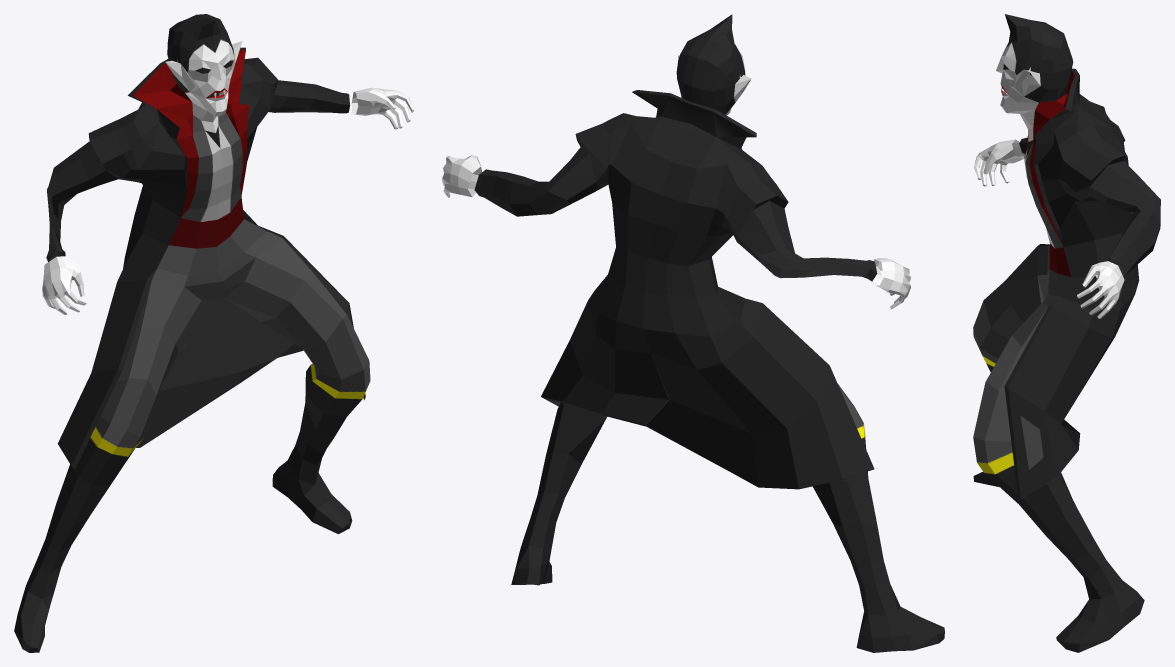
Rendered from VampireAttack(100).obj.
3 views of the same model, side by side, from view 1: azimuth 30°, elevation 25°; view 2: azimuth 150°, elevation 25°; view 3: azimuth 270°, elevation 25° (orthographic). The views are drawn at different scales.
Visible parts, largest first — view 1: Plane002; view 2: Plane002; view 3: Plane002.
Boxes of the visible parts, x1=… form: Plane002: x1=14, y1=14, x2=413, y2=652; Plane002: x1=442, y1=14, x2=944, y2=652; Plane002: x1=973, y1=14, x2=1160, y2=652.
Bounding box in the file's own units: 94.04 × 118 × 35.96.
